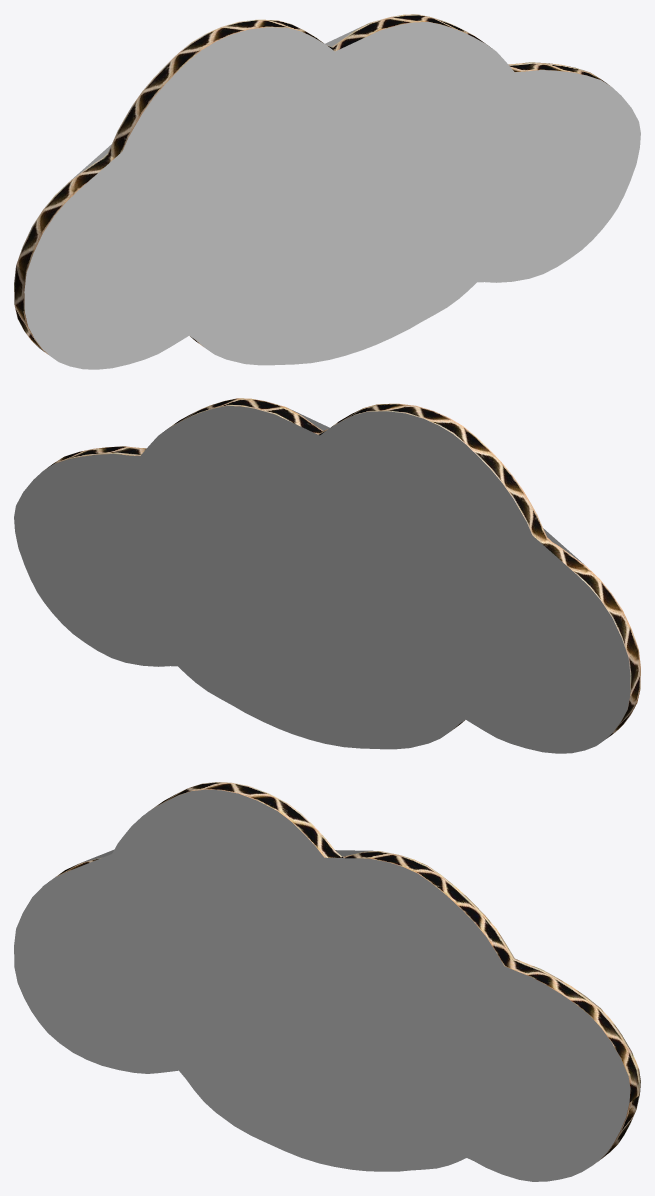
File: cloud3.fbx
3 views of the same model, one above another, from view 1: azimuth 30°, elevation 25°; view 2: azimuth 150°, elevation 25°; view 3: azimuth 330°, elevation 25° (orthographic).
Parts seen in each view (by area): view 1: cloud3; view 2: cloud3; view 3: cloud3.
Part boxes in pixels (x1,y1,x2,y2): cloud3: [14, 14, 640, 369]; cloud3: [14, 398, 640, 753]; cloud3: [14, 782, 640, 1181].
Size of the model in its own units: 466 by 253 by 13.7.
